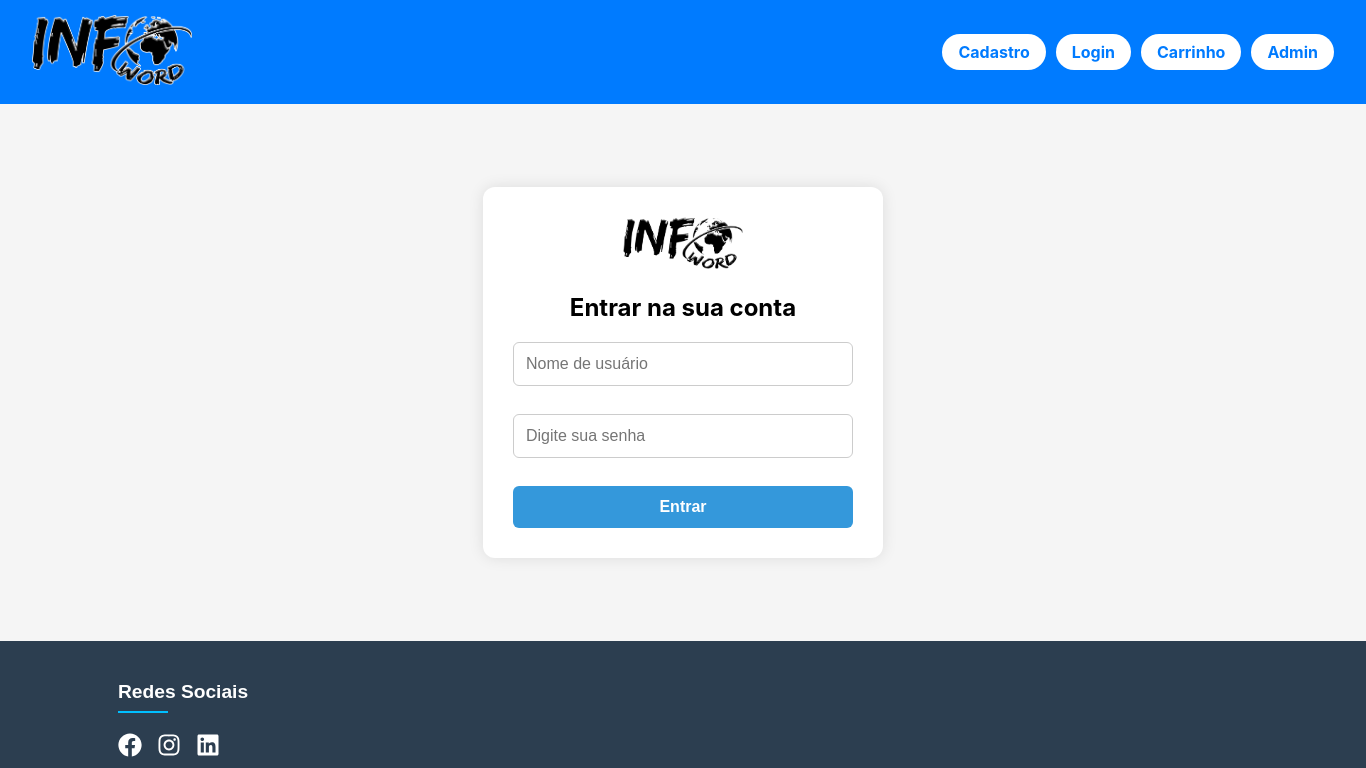
Scenario: LoginPage › exibe erros quando campos estão vazios ao enviar
The width and height of the screenshot is (1366, 768).
Click the button "Entrar": click(683, 507) [513,486,853,528]
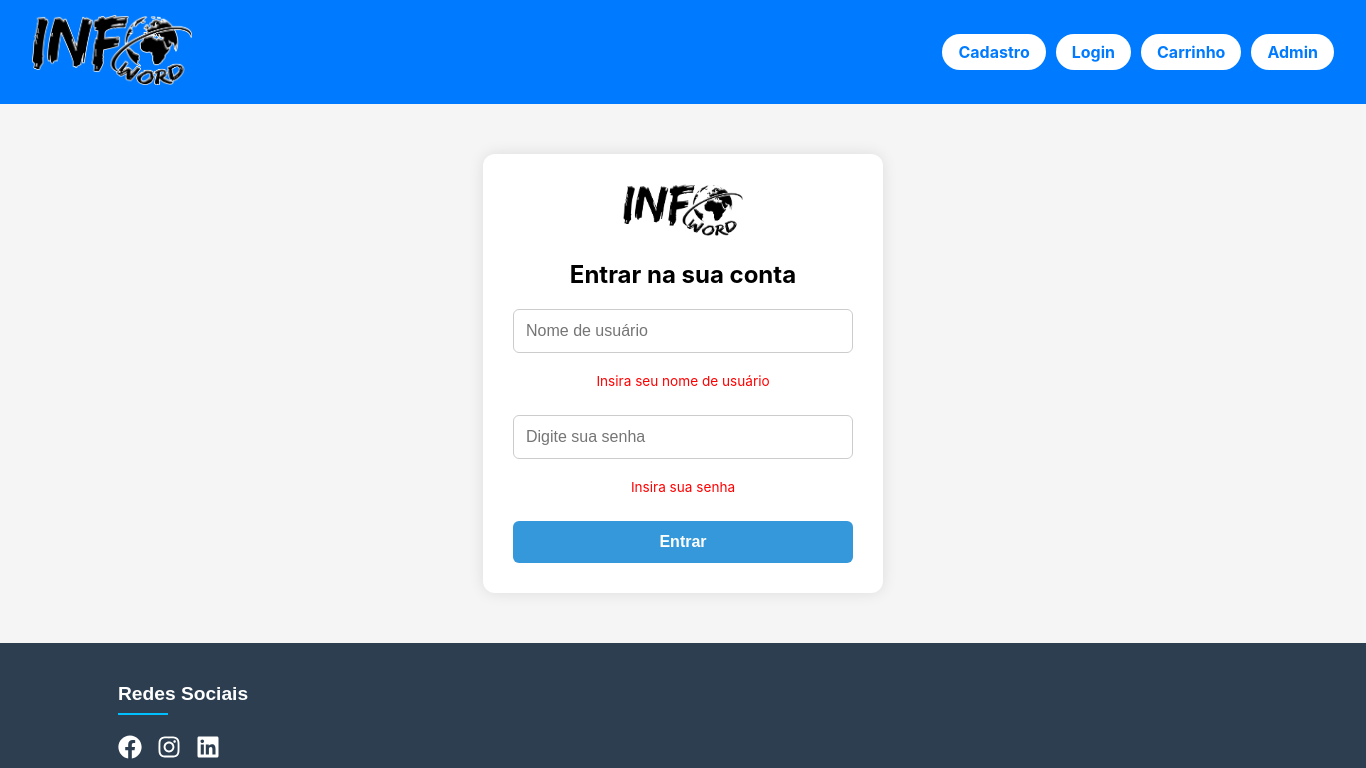
Check: the text "Insira seu nome de usuário" is shown, box [596,373,770,389]
Check: the text "Insira sua senha" is shown, box [631,479,735,495]
